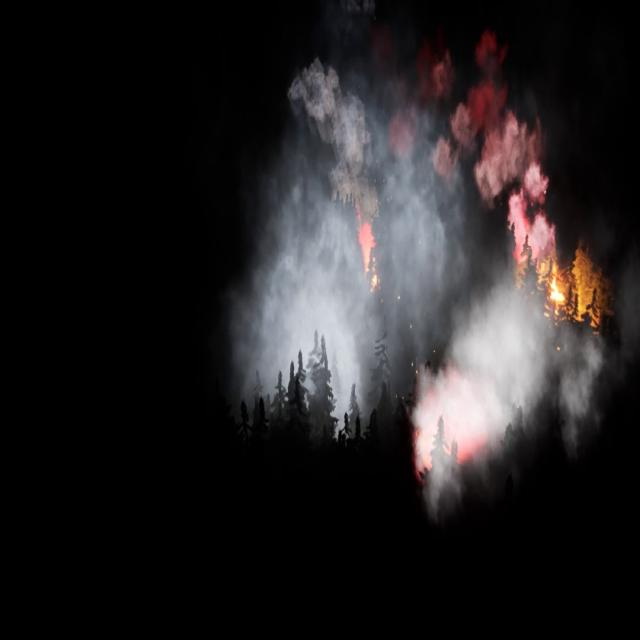fire: (356, 219, 386, 289), (539, 260, 569, 318)
smoke: (229, 8, 609, 490)
